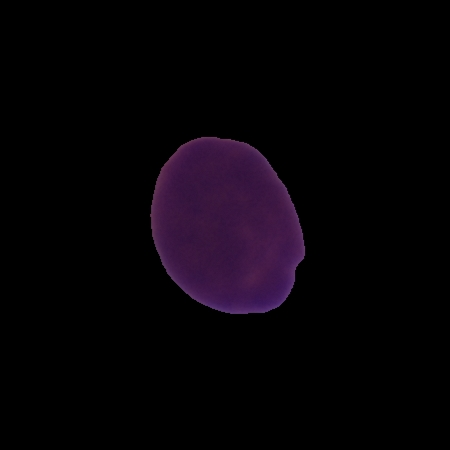ALL: (147, 134, 308, 317)
